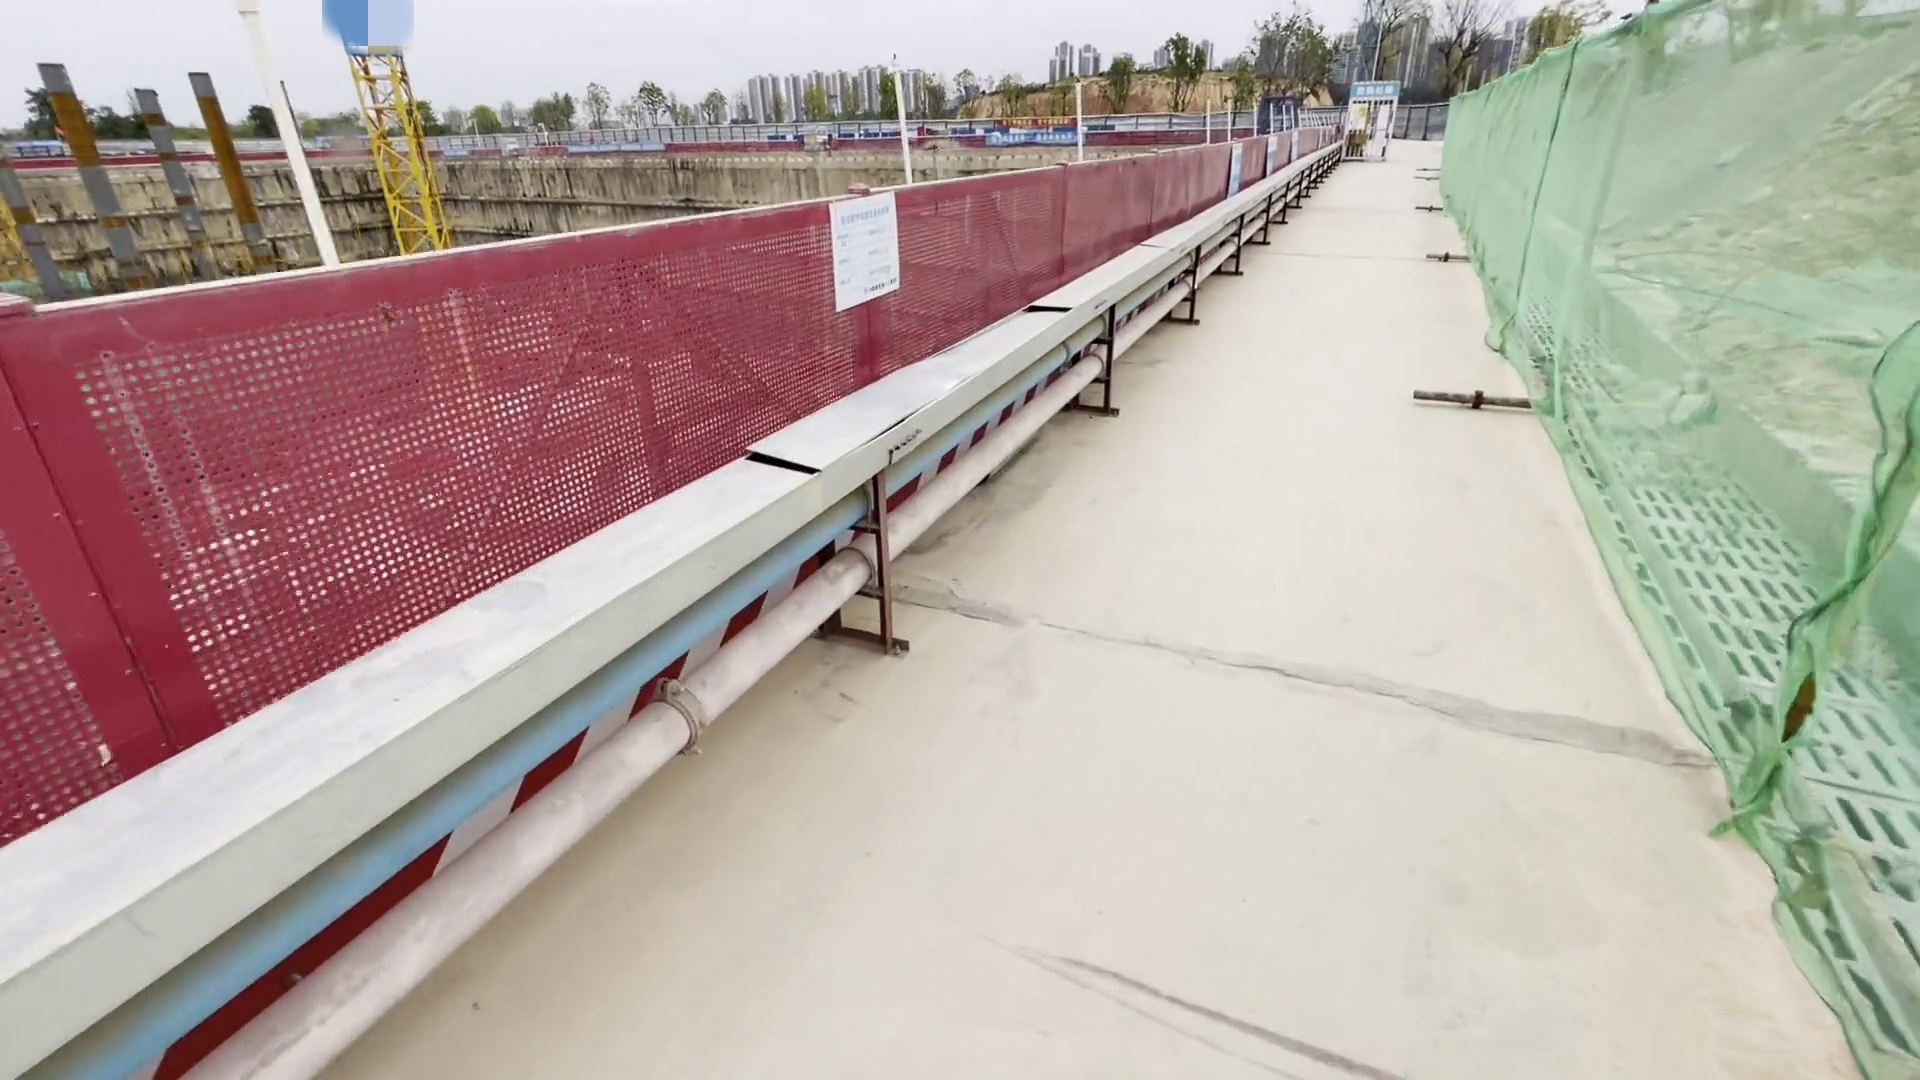fence: (1, 127, 1404, 864)
slogan: (1360, 80, 1396, 103)
